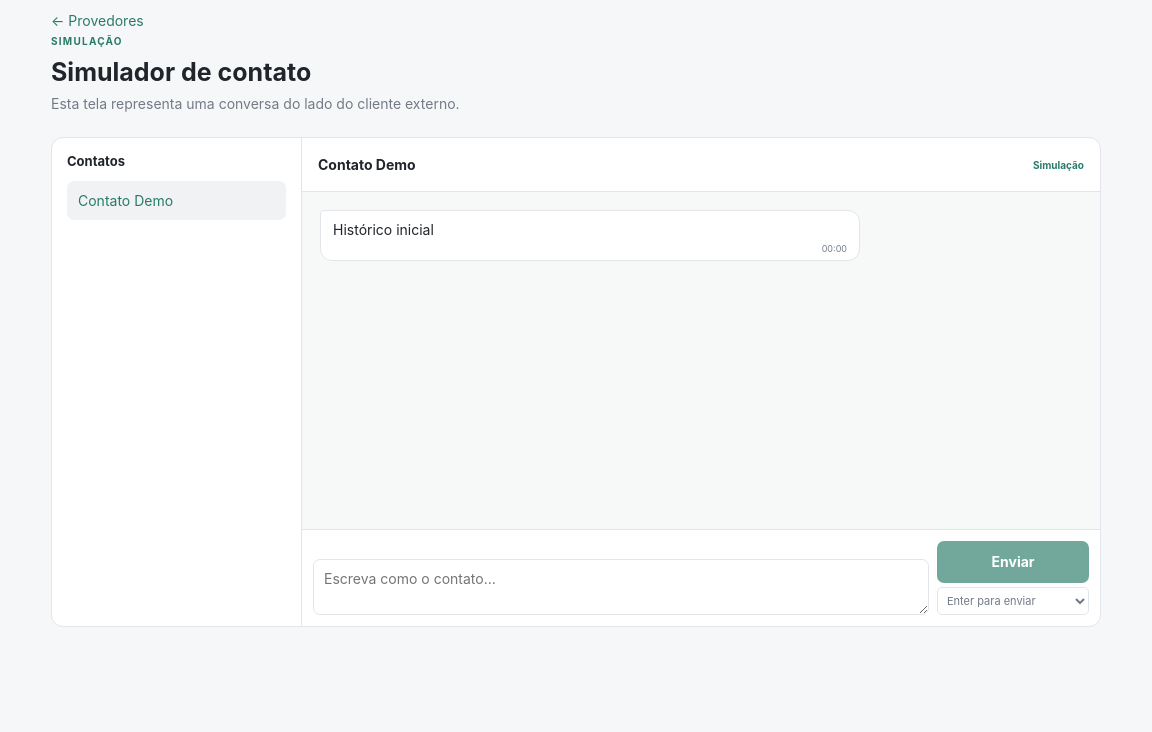
Test case: P1 transport + actual REST projections (synthetic) › serializes the Demo post-send read with realtime so an old response cannot overwrite new content
expect the text "Histórico inicial" is shown: met, box top-left (333, 221), bottom-right (434, 238)
Step 1. Type "Envio Demo" into the text box named "Mensagem como contato externo" → (621, 587), box top-left (313, 559), bottom-right (929, 615)
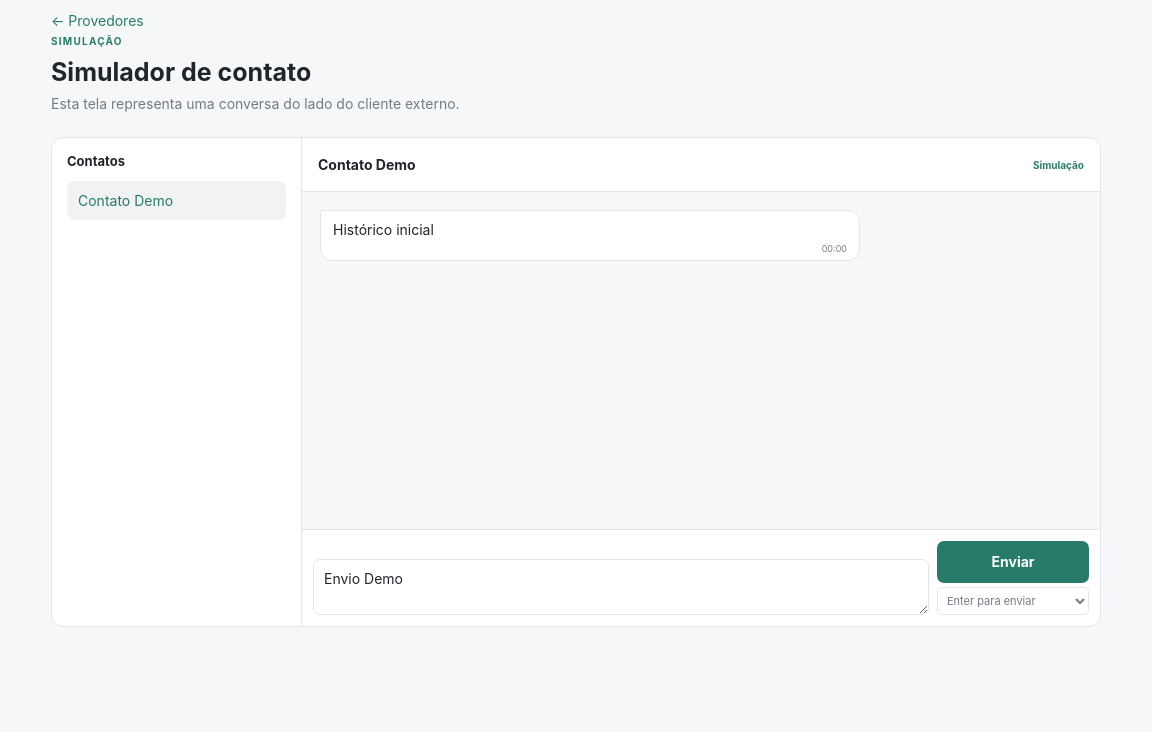
Step 2. Click the button "Enviar" → (1013, 562), box top-left (937, 541), bottom-right (1089, 583)
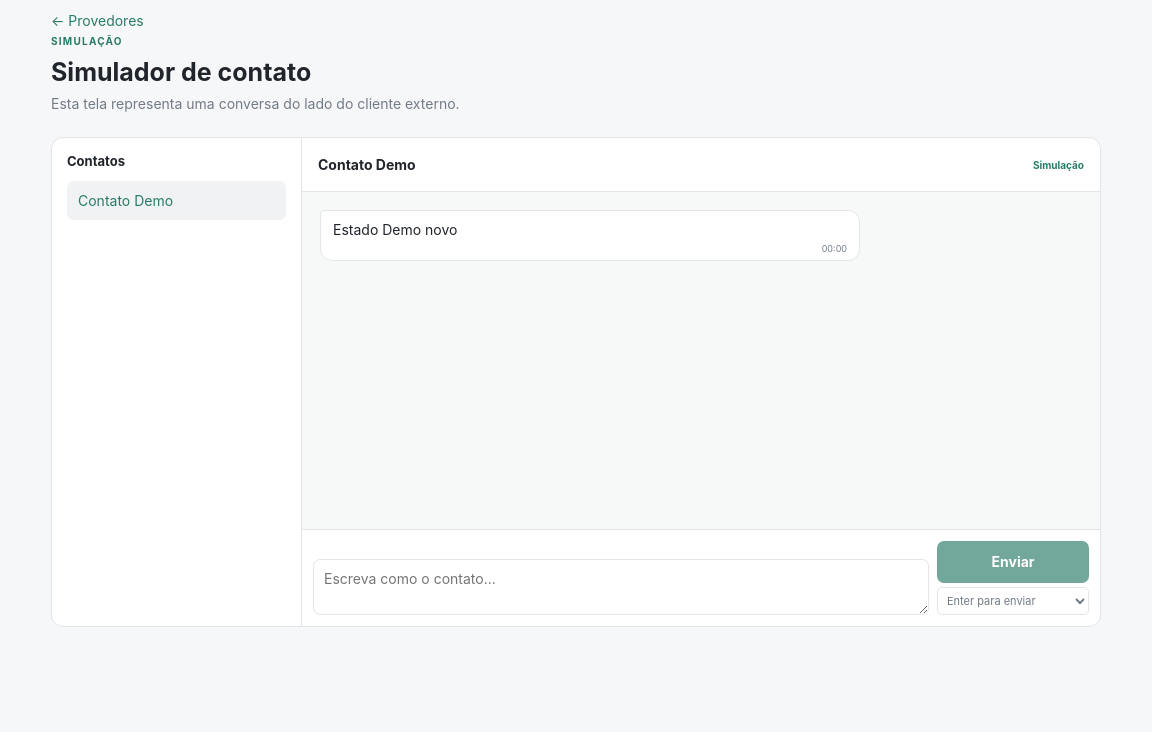
expect the text "Estado Demo novo" is shown: met, box top-left (333, 221), bottom-right (458, 238)
